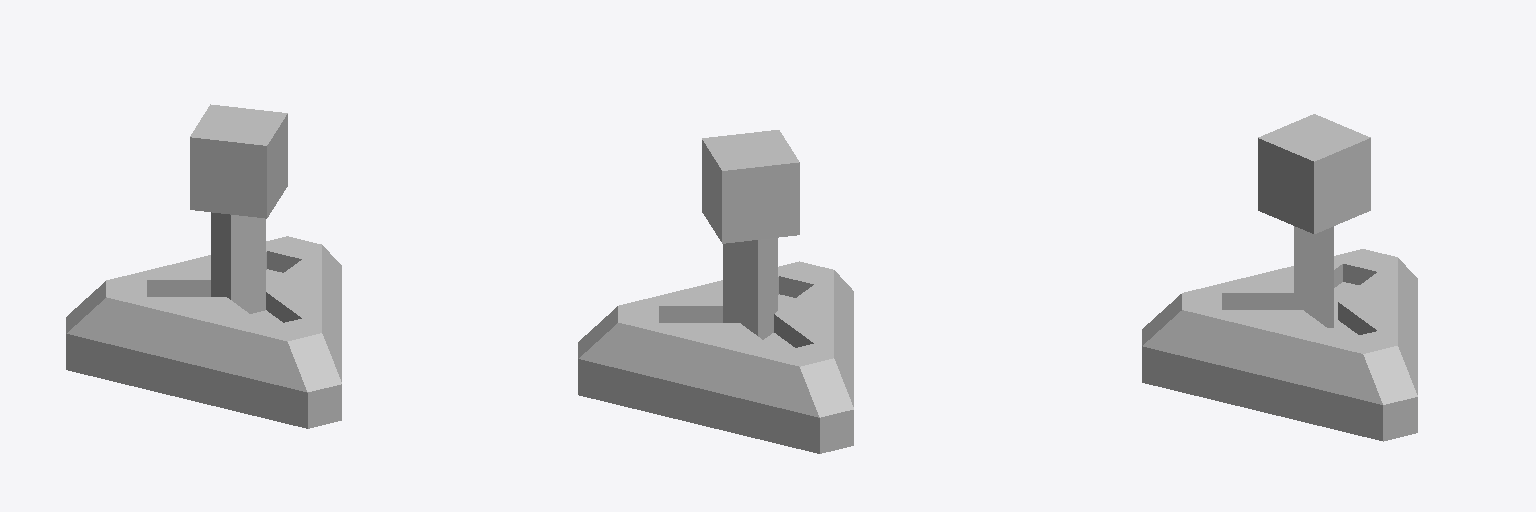
The model's file is lever_4state_0.obj.
3 renders of one model, left to right at view 1: azimuth 30°, elevation 25°; view 2: azimuth 150°, elevation 25°; view 3: azimuth 270°, elevation 25°, orthographic.
Visible parts, largest first — view 1: 4-STATE_Circle.005, LEVER_Cube.049; view 2: 4-STATE_Circle.005, LEVER_Cube.049; view 3: 4-STATE_Circle.005, LEVER_Cube.049.
Boxes of the visible parts, <box> form: 4-STATE_Circle.005: <box>66,236,341,428</box>; LEVER_Cube.049: <box>190,104,287,313</box>; 4-STATE_Circle.005: <box>578,261,853,453</box>; LEVER_Cube.049: <box>702,130,799,339</box>; 4-STATE_Circle.005: <box>1142,249,1417,441</box>; LEVER_Cube.049: <box>1258,114,1370,327</box>.
Bounding box in the file's own units: 0.4964 × 0.4062 × 0.4299.